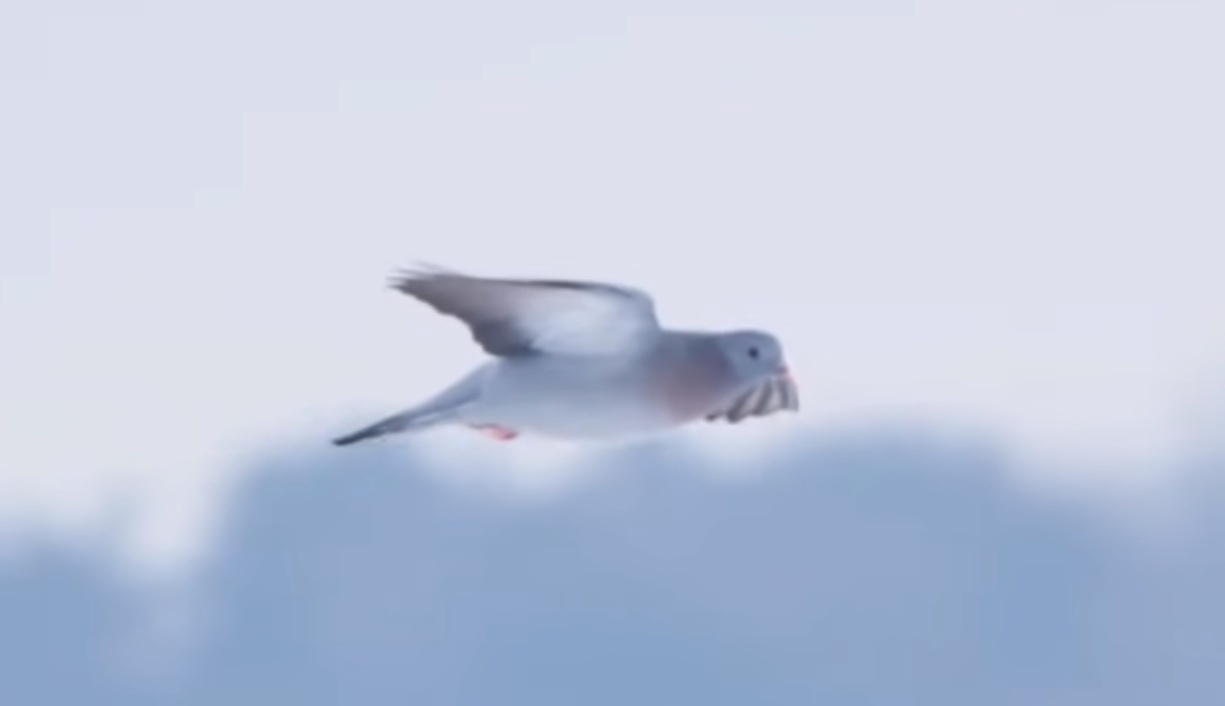bird: (340, 266, 800, 465)
